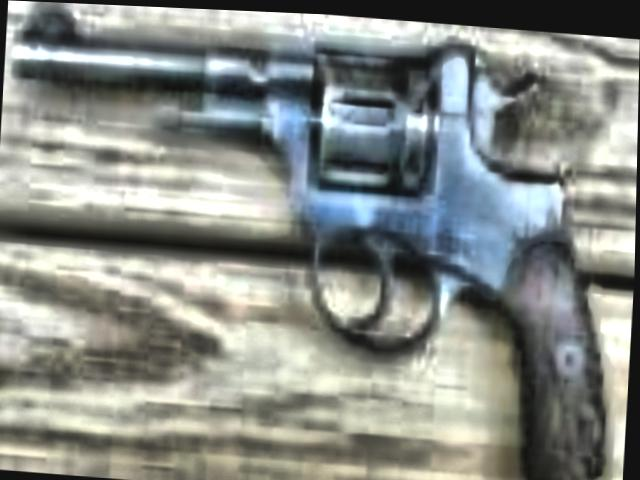pistol: (0, 6, 635, 480)
